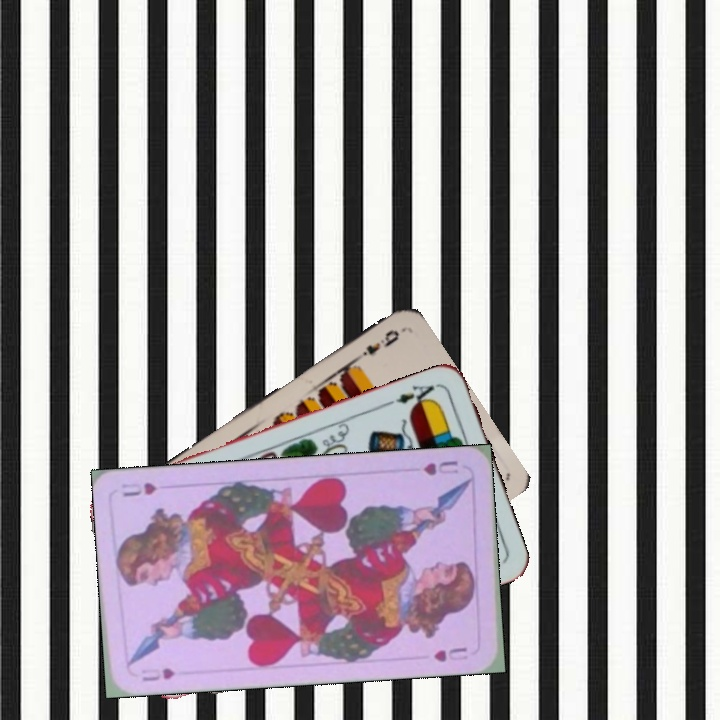E9: (352, 325, 402, 364)
EA: (384, 379, 441, 412)
HU: (419, 456, 461, 478), (137, 663, 177, 684)
